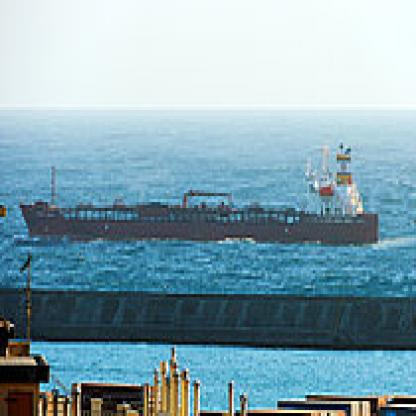Tanker: (18, 143, 388, 256)
